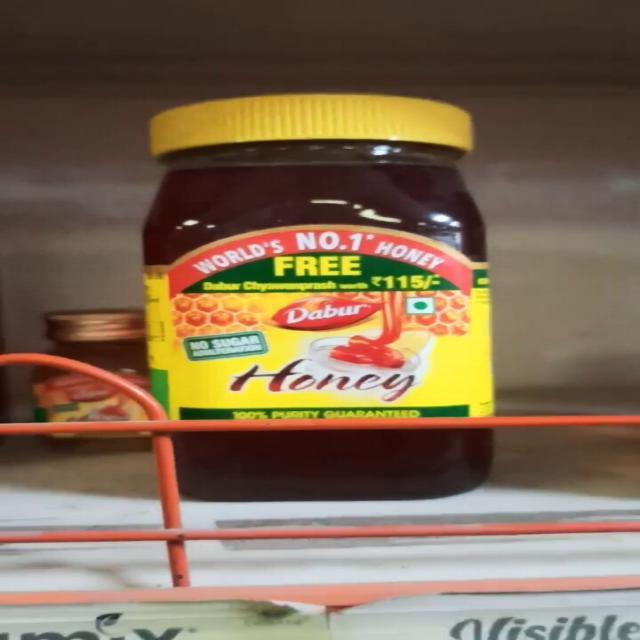Dabur Honey: (148, 94, 516, 504)
